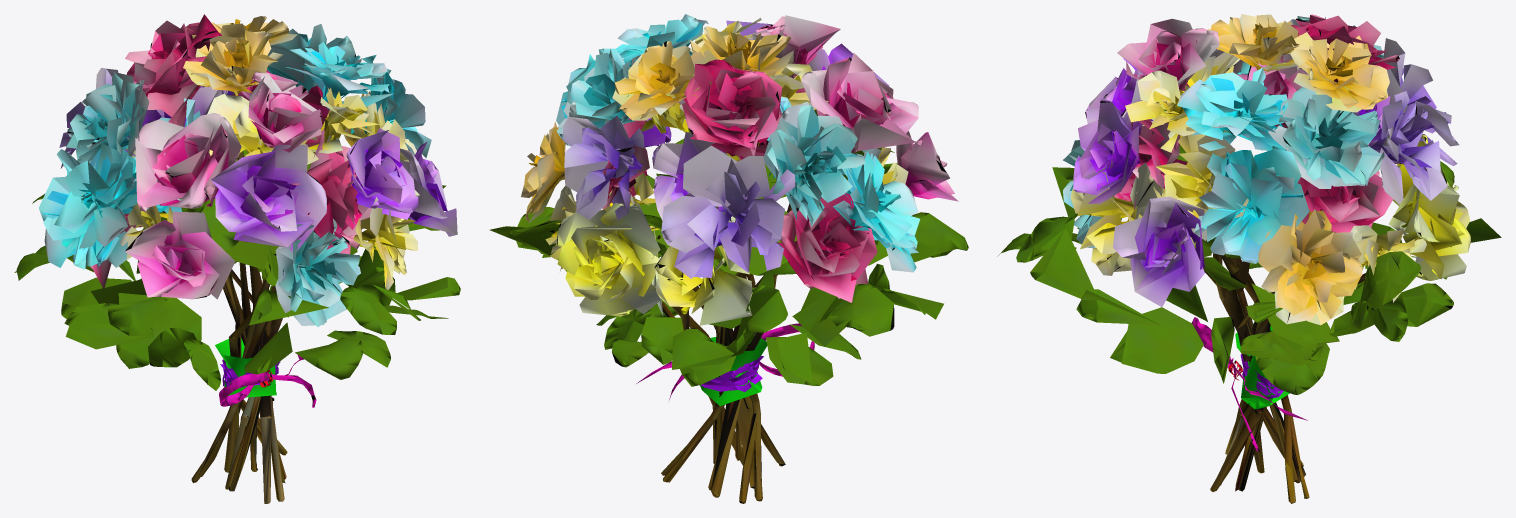
The model's file is Bouquet of Roses.fbx.
3 views of the same model, side by side, from view 1: azimuth 30°, elevation 25°; view 2: azimuth 150°, elevation 25°; view 3: azimuth 270°, elevation 25° (orthographic). The views are drawn at different scales.
Parts seen in each view (by area): view 1: buqet; view 2: buqet; view 3: buqet.
Boxes of the visible parts, box(x1,y1,x2,y2) form: buqet: box(14, 14, 460, 503); buqet: box(490, 14, 968, 503); buqet: box(997, 14, 1501, 503).
Bounding box in the file's own units: 53.09 × 58.04 × 57.16.
1 material, 1 textured.
